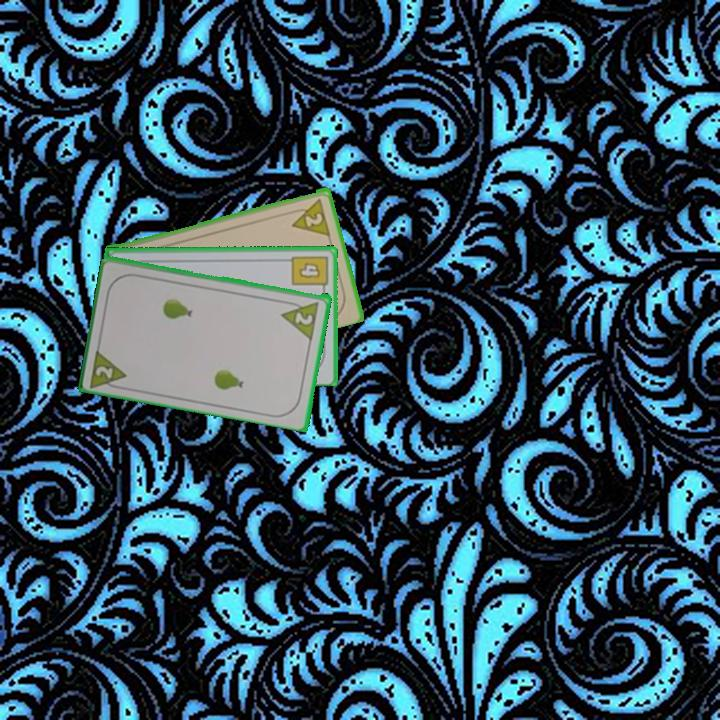2p: (86, 344, 130, 392), (286, 194, 333, 238), (278, 297, 322, 341)
4b: (288, 252, 330, 295)
